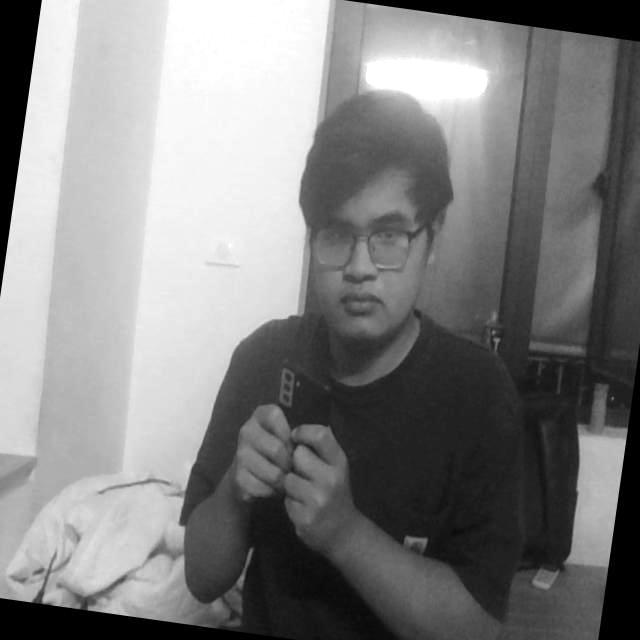phone: (239, 344, 352, 528)
